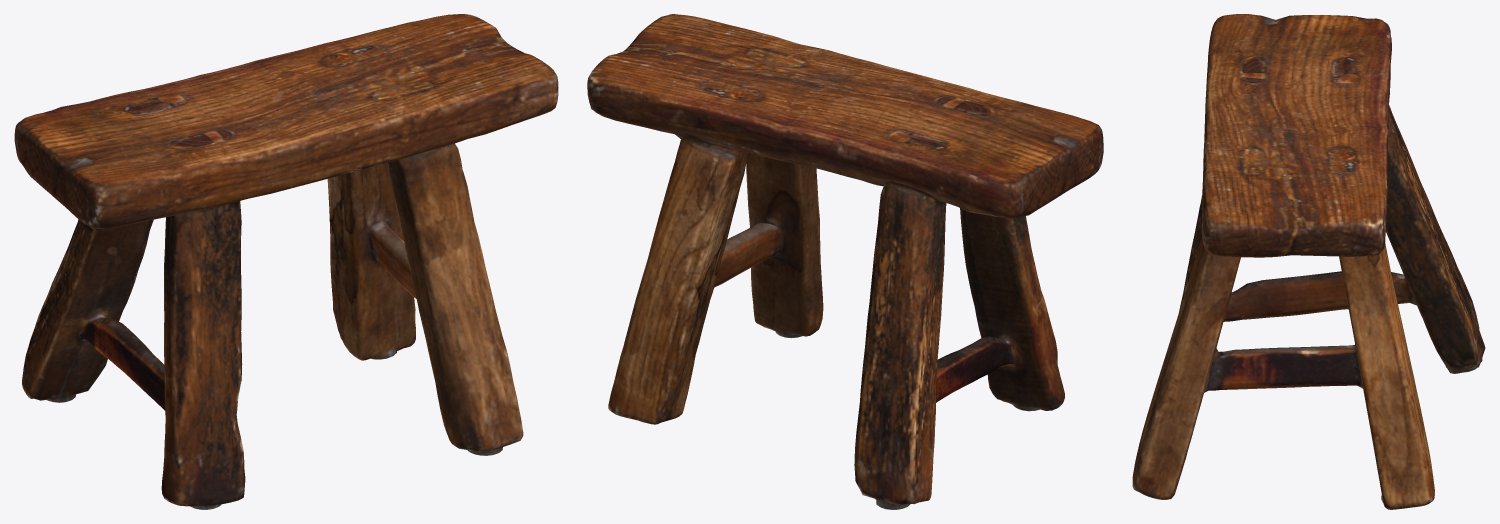
The model's file is WoodenStool_astral3d.optimize.glb.
The picture shows the model from 3 angles, left to right: view 1: azimuth 30°, elevation 25°; view 2: azimuth 150°, elevation 25°; view 3: azimuth 270°, elevation 25°; orthographic projection. The views are drawn at different scales.
Parts seen in each view (by area): view 1: wooden_stool_02; view 2: wooden_stool_02; view 3: wooden_stool_02.
Part boxes in pixels (x1,y1,x2,y2): wooden_stool_02: (14, 14, 558, 509); wooden_stool_02: (587, 14, 1103, 509); wooden_stool_02: (1132, 14, 1485, 509).
Bounding box in the file's own units: 0.2652 × 0.1819 × 0.1831.
Materials: 1 (1 with a texture image).
